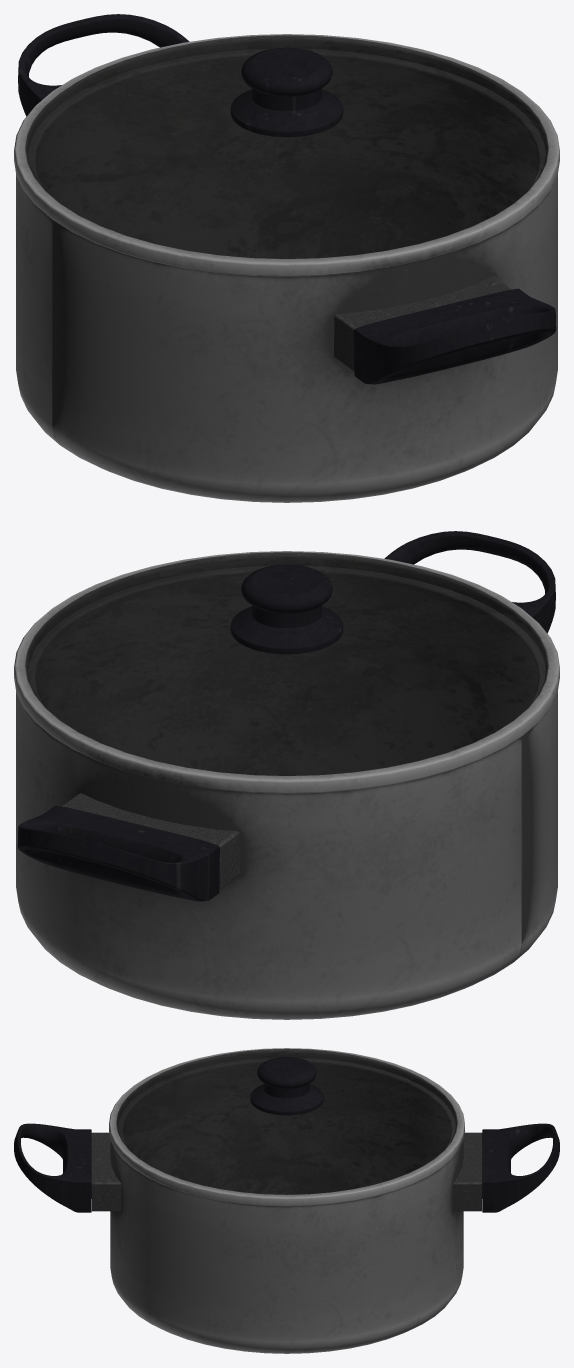
Rendered from cooking-pot.glb.
3 views of the same model, one above another, from view 1: azimuth 30°, elevation 25°; view 2: azimuth 150°, elevation 25°; view 3: azimuth 270°, elevation 25° (orthographic). The views are drawn at different scales.
Visible parts, largest first — view 1: Mesh_Default_0, Mesh_Glass_0; view 2: Mesh_Default_0, Mesh_Glass_0; view 3: Mesh_Default_0, Mesh_Glass_0.
Boxes of the visible parts, x1,y1,x2,y2 form: Mesh_Default_0: (14, 14, 559, 502); Mesh_Glass_0: (25, 35, 548, 258); Mesh_Default_0: (14, 531, 559, 1019); Mesh_Glass_0: (25, 552, 548, 775); Mesh_Default_0: (14, 1048, 559, 1353); Mesh_Glass_0: (116, 1049, 457, 1194).
Bounding box in the file's own units: 0.24 × 0.163 × 0.368.
Materials: 2 (2 with a texture image).
